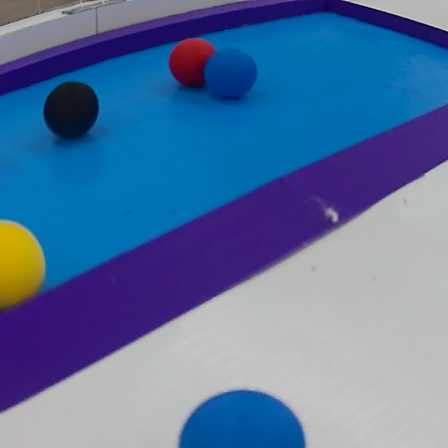black: (32, 74, 107, 141)
blue: (177, 388, 308, 448), (201, 41, 261, 105)
blue_aim: (2, 0, 448, 418)
red: (167, 37, 223, 90)
yellow: (0, 217, 45, 314)
